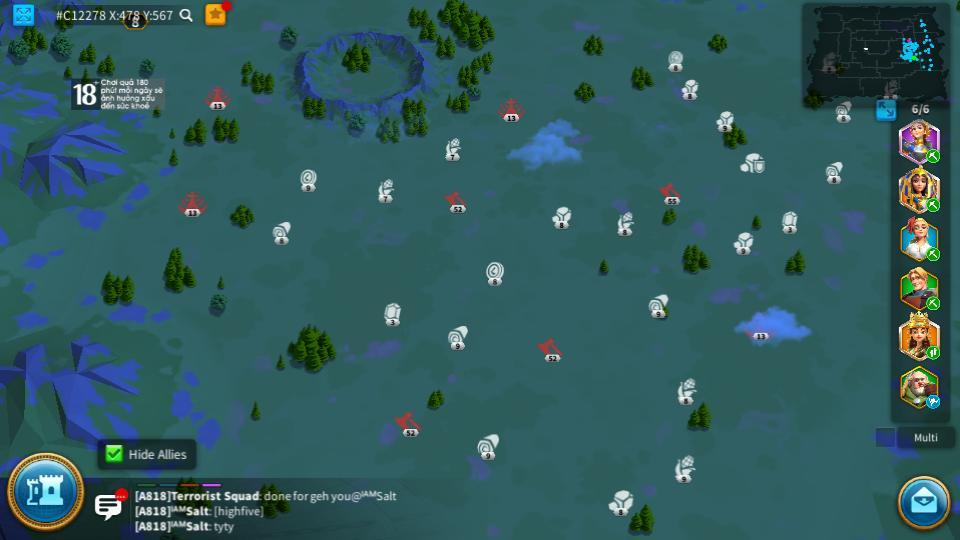gem-z-out: (381, 303, 402, 326), (778, 210, 798, 232)
march_idle: (925, 396, 942, 408)
march_marching: (925, 197, 941, 212), (925, 347, 941, 359), (925, 150, 941, 162), (925, 297, 942, 308), (925, 250, 941, 261)
